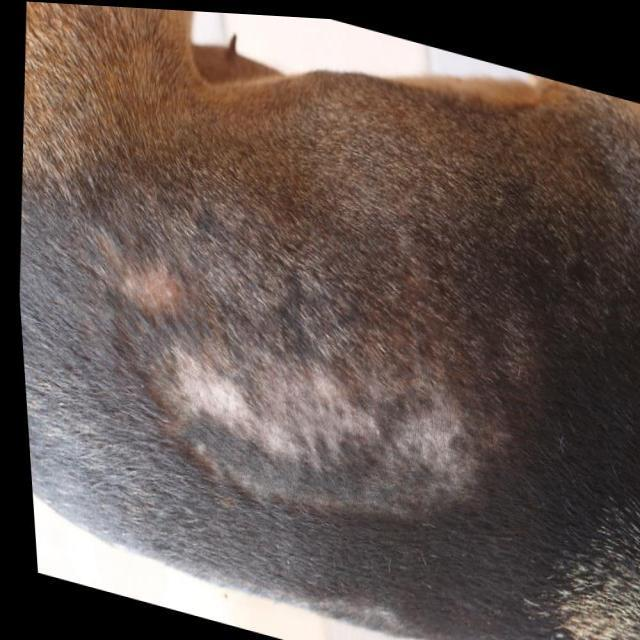mange: (264, 365, 488, 519), (142, 322, 270, 460), (119, 252, 192, 314)
